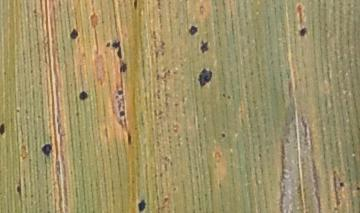tarspot: (194, 64, 213, 90), (105, 40, 125, 61), (13, 177, 24, 199), (40, 141, 53, 158), (186, 23, 200, 38), (112, 84, 126, 99), (296, 26, 309, 39), (199, 39, 210, 54), (68, 27, 79, 41), (76, 90, 89, 101), (138, 198, 147, 213), (124, 131, 133, 146), (119, 62, 129, 74), (117, 107, 126, 119), (1, 119, 6, 136), (337, 180, 346, 189), (131, 1, 139, 10), (219, 132, 227, 139), (354, 186, 360, 192)
